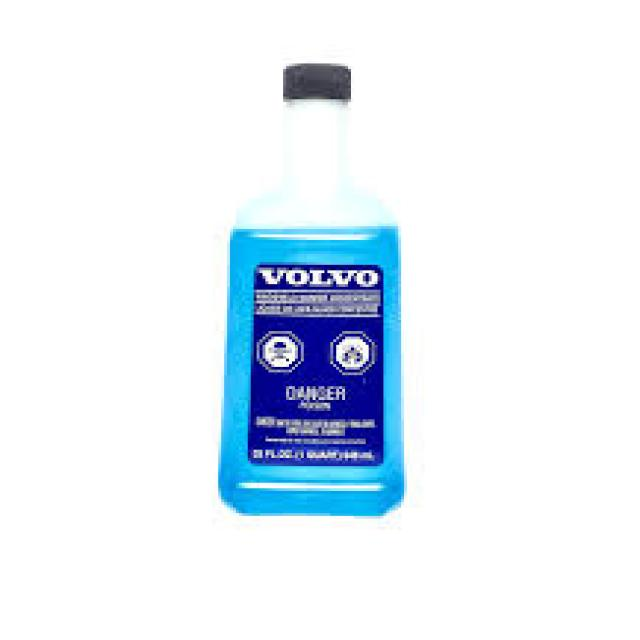winwinshield_washer: (213, 56, 413, 525)
